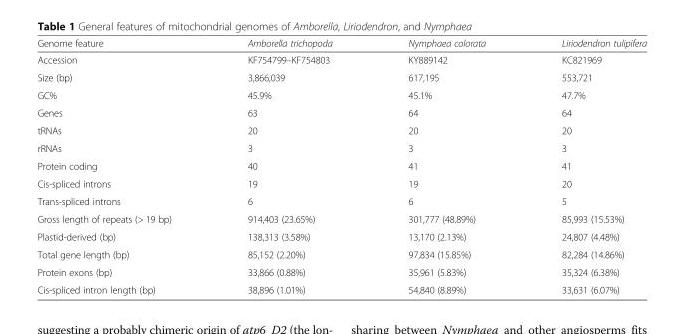table: (36, 37, 646, 295)
table column: (36, 37, 208, 295), (208, 37, 369, 295), (369, 37, 523, 295), (523, 37, 646, 295)
table column header: (36, 37, 646, 51)
table row: (36, 85, 646, 103), (36, 103, 646, 121), (36, 121, 646, 139), (36, 156, 646, 174), (36, 174, 646, 192), (36, 209, 646, 227), (36, 227, 646, 245), (36, 262, 646, 280), (36, 51, 646, 68), (36, 68, 646, 85), (36, 139, 646, 156), (36, 192, 646, 209), (36, 245, 646, 262), (36, 280, 646, 295), (36, 37, 646, 51)
